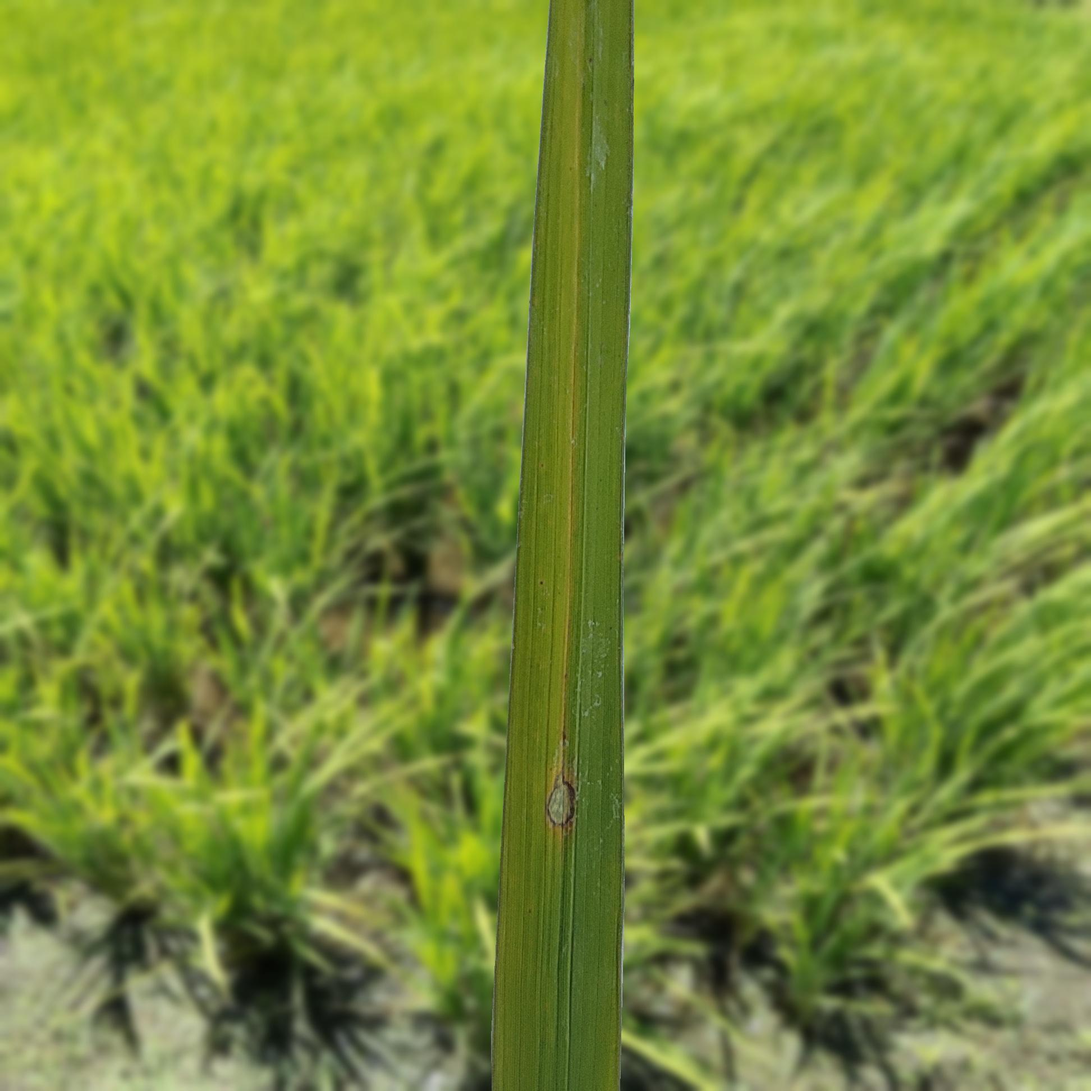LEAF BLAST: (547, 774, 574, 826)
